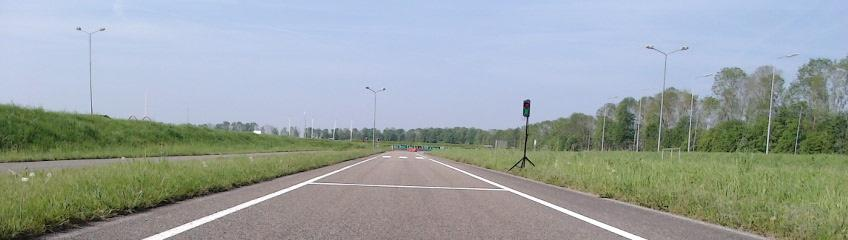TrafficLight-green: (523, 100, 530, 117)
